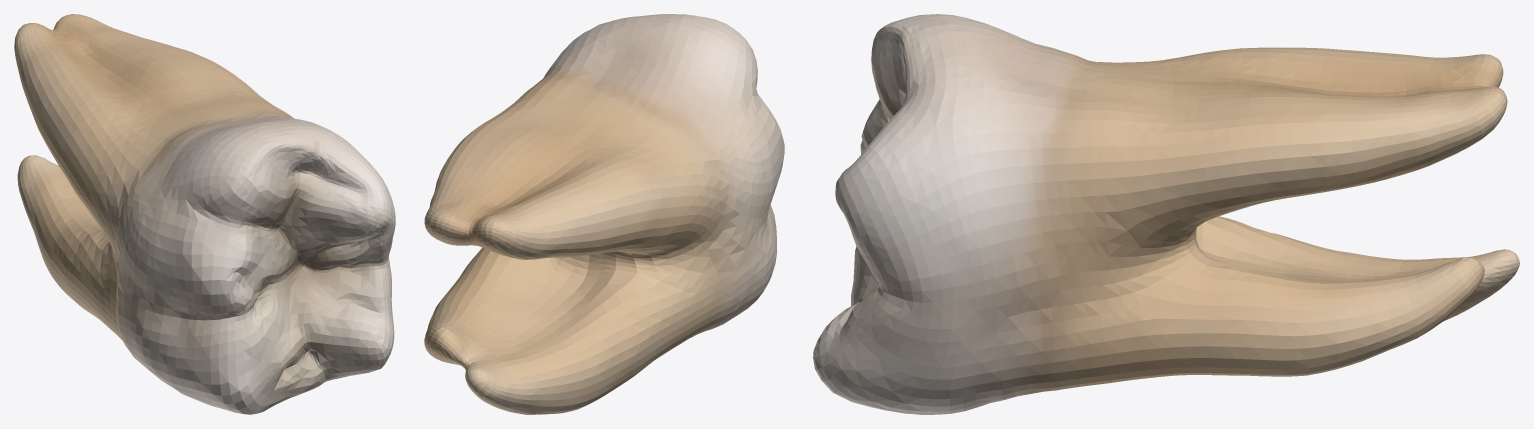
File: Lower_Right_First_Molar_30_Enamel.obj
3 views of the same model, side by side, from view 1: azimuth 30°, elevation 25°; view 2: azimuth 150°, elevation 25°; view 3: azimuth 270°, elevation 25° (orthographic). The views are drawn at different scales.
Visible parts, largest first — view 1: ZBrushPolyMesh3D; view 2: ZBrushPolyMesh3D; view 3: ZBrushPolyMesh3D.
Part boxes in pixels (<box>): ZBrushPolyMesh3D: <box>14,14,395,414</box>; ZBrushPolyMesh3D: <box>424,14,784,414</box>; ZBrushPolyMesh3D: <box>813,14,1519,414</box>.
Bounding box in the file's own units: 46.94 × 52.75 × 93.7.
